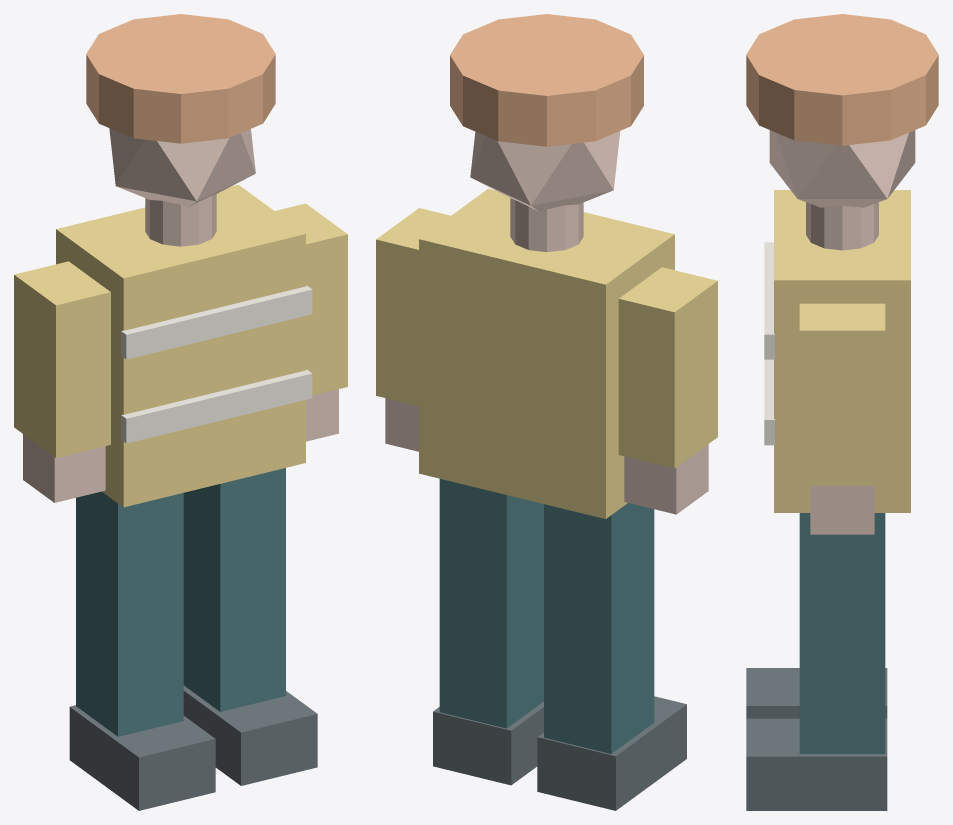
Rendered from ground_crew.glb.
The picture shows the model from 3 angles, left to right: view 1: azimuth 30°, elevation 25°; view 2: azimuth 150°, elevation 25°; view 3: azimuth 270°, elevation 25°; orthographic projection. The views are drawn at different scales.
Parts seen in each view (by area): view 1: ground_crew__Torso, ground_crew__Shin_L, ground_crew__Shin_R, ground_crew__Helmet, ground_crew__Sleeve_L, ground_crew__Boot_L, ground_crew__Boot_R, ground_crew__Head, ground_crew__Sleeve_R, ground_crew__HiVis_band, ground_crew__HiVis_band.001, ground_crew__Hand_L (+2 smaller); view 2: ground_crew__Torso, ground_crew__Shin_L, ground_crew__Shin_R, ground_crew__Helmet, ground_crew__Sleeve_L, ground_crew__Boot_L, ground_crew__Head, ground_crew__Sleeve_R, ground_crew__Boot_R, ground_crew__Hand_L, ground_crew__Neck, ground_crew__Hand_R; view 3: ground_crew__Torso, ground_crew__Helmet, ground_crew__Shin_R, ground_crew__Sleeve_R, ground_crew__Boot_R, ground_crew__Head, ground_crew__Hand_R, ground_crew__Neck, ground_crew__Boot_L, ground_crew__HiVis_band.001, ground_crew__HiVis_band.
Part boxes in pixels (x1,y1,x2,y2): ground_crew__Torso: (56, 184, 305, 507); ground_crew__Shin_L: (76, 491, 183, 736); ground_crew__Shin_R: (183, 468, 285, 711); ground_crew__Helmet: (86, 14, 275, 143); ground_crew__Sleeve_L: (14, 261, 110, 457); ground_crew__Boot_L: (69, 705, 215, 810); ground_crew__Boot_R: (183, 685, 317, 785); ground_crew__Head: (109, 128, 255, 207); ground_crew__Sleeve_R: (275, 203, 347, 395); ground_crew__HiVis_band: (121, 369, 312, 443); ground_crew__HiVis_band.001: (121, 285, 312, 359); ground_crew__Hand_L: (23, 434, 105, 502); ground_crew__Torso: (419, 188, 674, 518); ground_crew__Shin_L: (544, 503, 654, 753); ground_crew__Shin_R: (439, 479, 543, 728); ground_crew__Helmet: (450, 14, 643, 146); ground_crew__Sleeve_L: (618, 267, 717, 468); ground_crew__Boot_L: (537, 696, 686, 810); ground_crew__Head: (470, 131, 620, 211); ground_crew__Sleeve_R: (376, 208, 450, 406); ground_crew__Boot_R: (433, 701, 543, 785); ground_crew__Hand_L: (624, 444, 708, 514); ground_crew__Neck: (510, 198, 583, 251); ground_crew__Hand_R: (385, 398, 418, 451); ground_crew__Torso: (774, 190, 910, 512); ground_crew__Helmet: (746, 14, 938, 145); ground_crew__Shin_R: (799, 513, 885, 753); ground_crew__Sleeve_R: (799, 303, 885, 485); ground_crew__Boot_R: (746, 718, 887, 810); ground_crew__Head: (769, 130, 915, 207); ground_crew__Hand_R: (810, 486, 874, 534); ground_crew__Neck: (806, 202, 878, 250); ground_crew__Boot_L: (746, 668, 887, 718); ground_crew__HiVis_band.001: (764, 242, 774, 359); ground_crew__HiVis_band: (764, 359, 774, 445).
Size of the model in its own units: 0.8 by 1.84 by 0.45.
